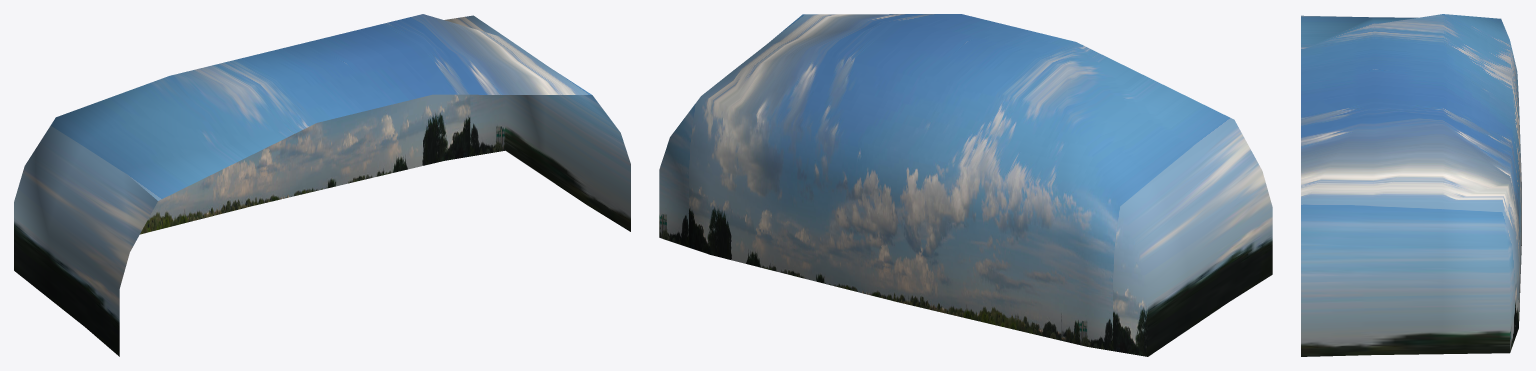
3 views of the same model, side by side, from view 1: azimuth 30°, elevation 25°; view 2: azimuth 150°, elevation 25°; view 3: azimuth 270°, elevation 25° (orthographic). The views are drawn at different scales.
Visible parts, largest first — view 1: sky_sun; view 2: sky_sun; view 3: sky_sun.
Part boxes in pixels (x1=…): sky_sun: x1=14, y1=14, x2=630, y2=356; sky_sun: x1=659, y1=14, x2=1272, y2=356; sky_sun: x1=1301, y1=14, x2=1521, y2=356.
Bounding box in the file's own units: 315 × 117 × 130.
1 material, 1 textured.
